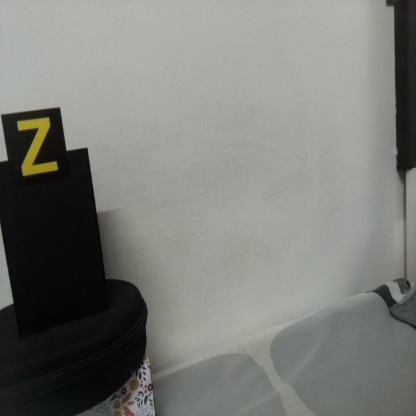id_15: (1, 114, 66, 186)
